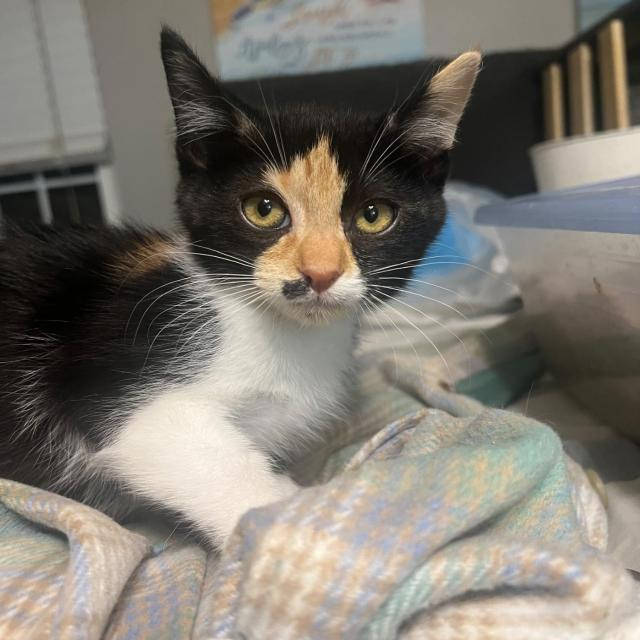calico_cat: (132, 16, 496, 383)
